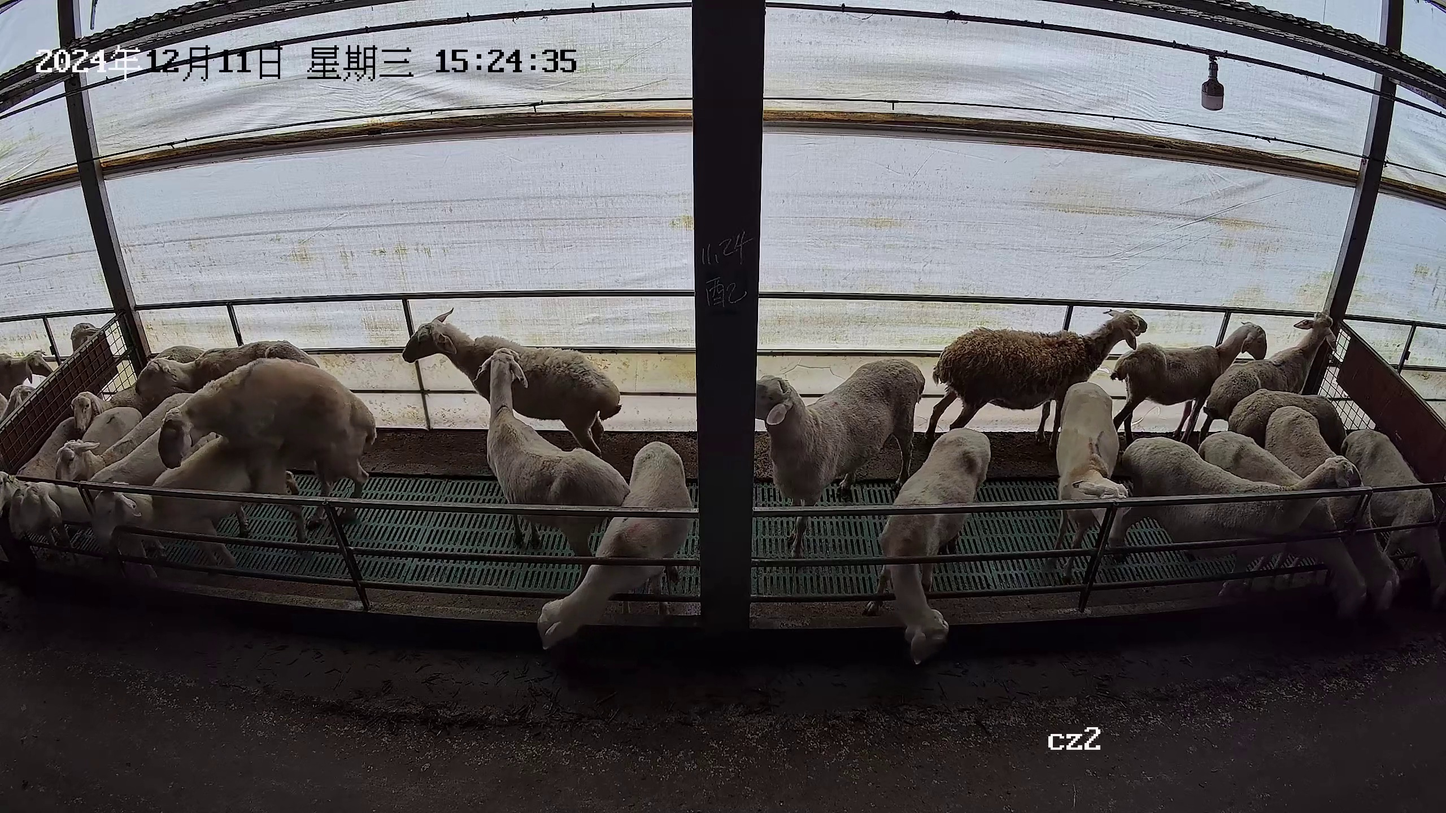Smounting: (85, 352, 378, 576)
mounted: (90, 426, 314, 572)
